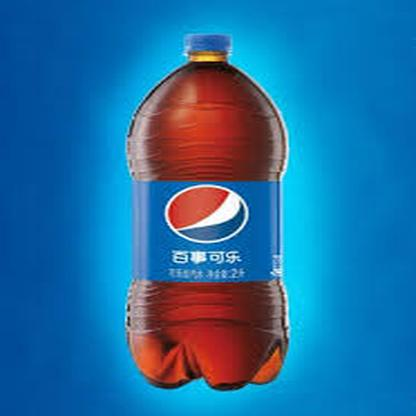plastic bottle: (125, 34, 292, 390)
